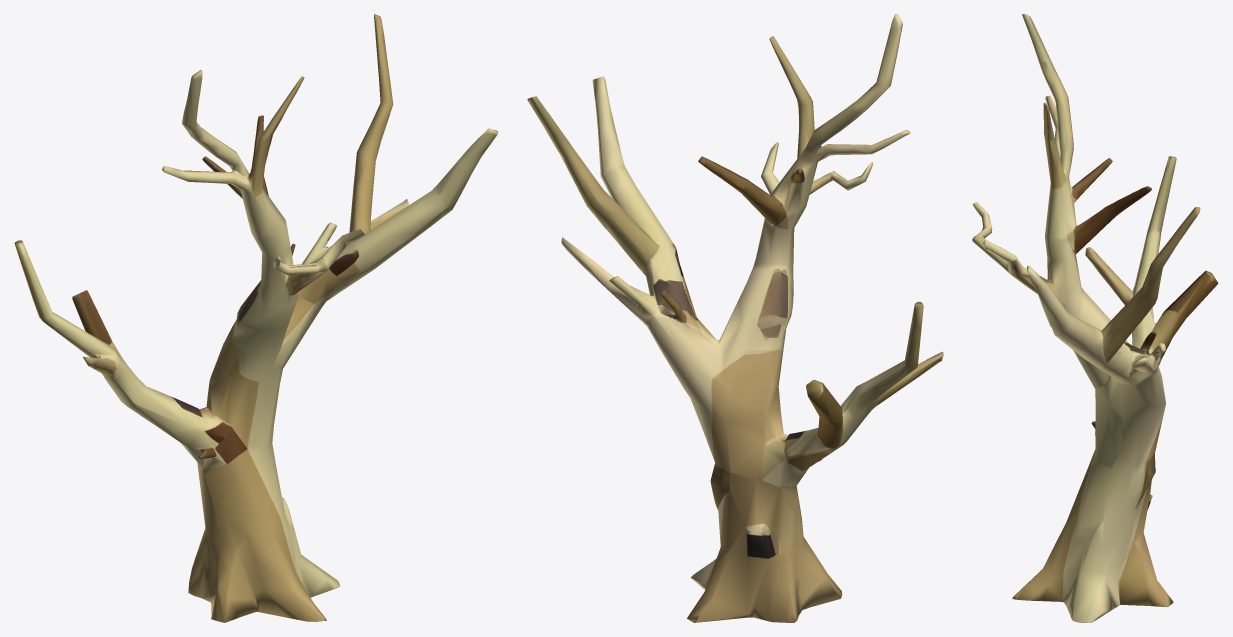
The model's file is irrhakur_dead_tree_1.glb.
3 renders of one model, left to right at view 1: azimuth 30°, elevation 25°; view 2: azimuth 150°, elevation 25°; view 3: azimuth 270°, elevation 25°, orthographic. The views are drawn at different scales.
Visible parts, largest first — view 1: Mesh_0; view 2: Mesh_0; view 3: Mesh_0.
Part boxes in pixels (left/top/right/bottom): Mesh_0: left=14, top=14, right=498, bottom=622; Mesh_0: left=527, top=14, right=943, bottom=622; Mesh_0: left=972, top=14, right=1218, bottom=622.
Size of the model in its own units: 1.41 by 1.91 by 0.7979.
1 material, 1 textured.
